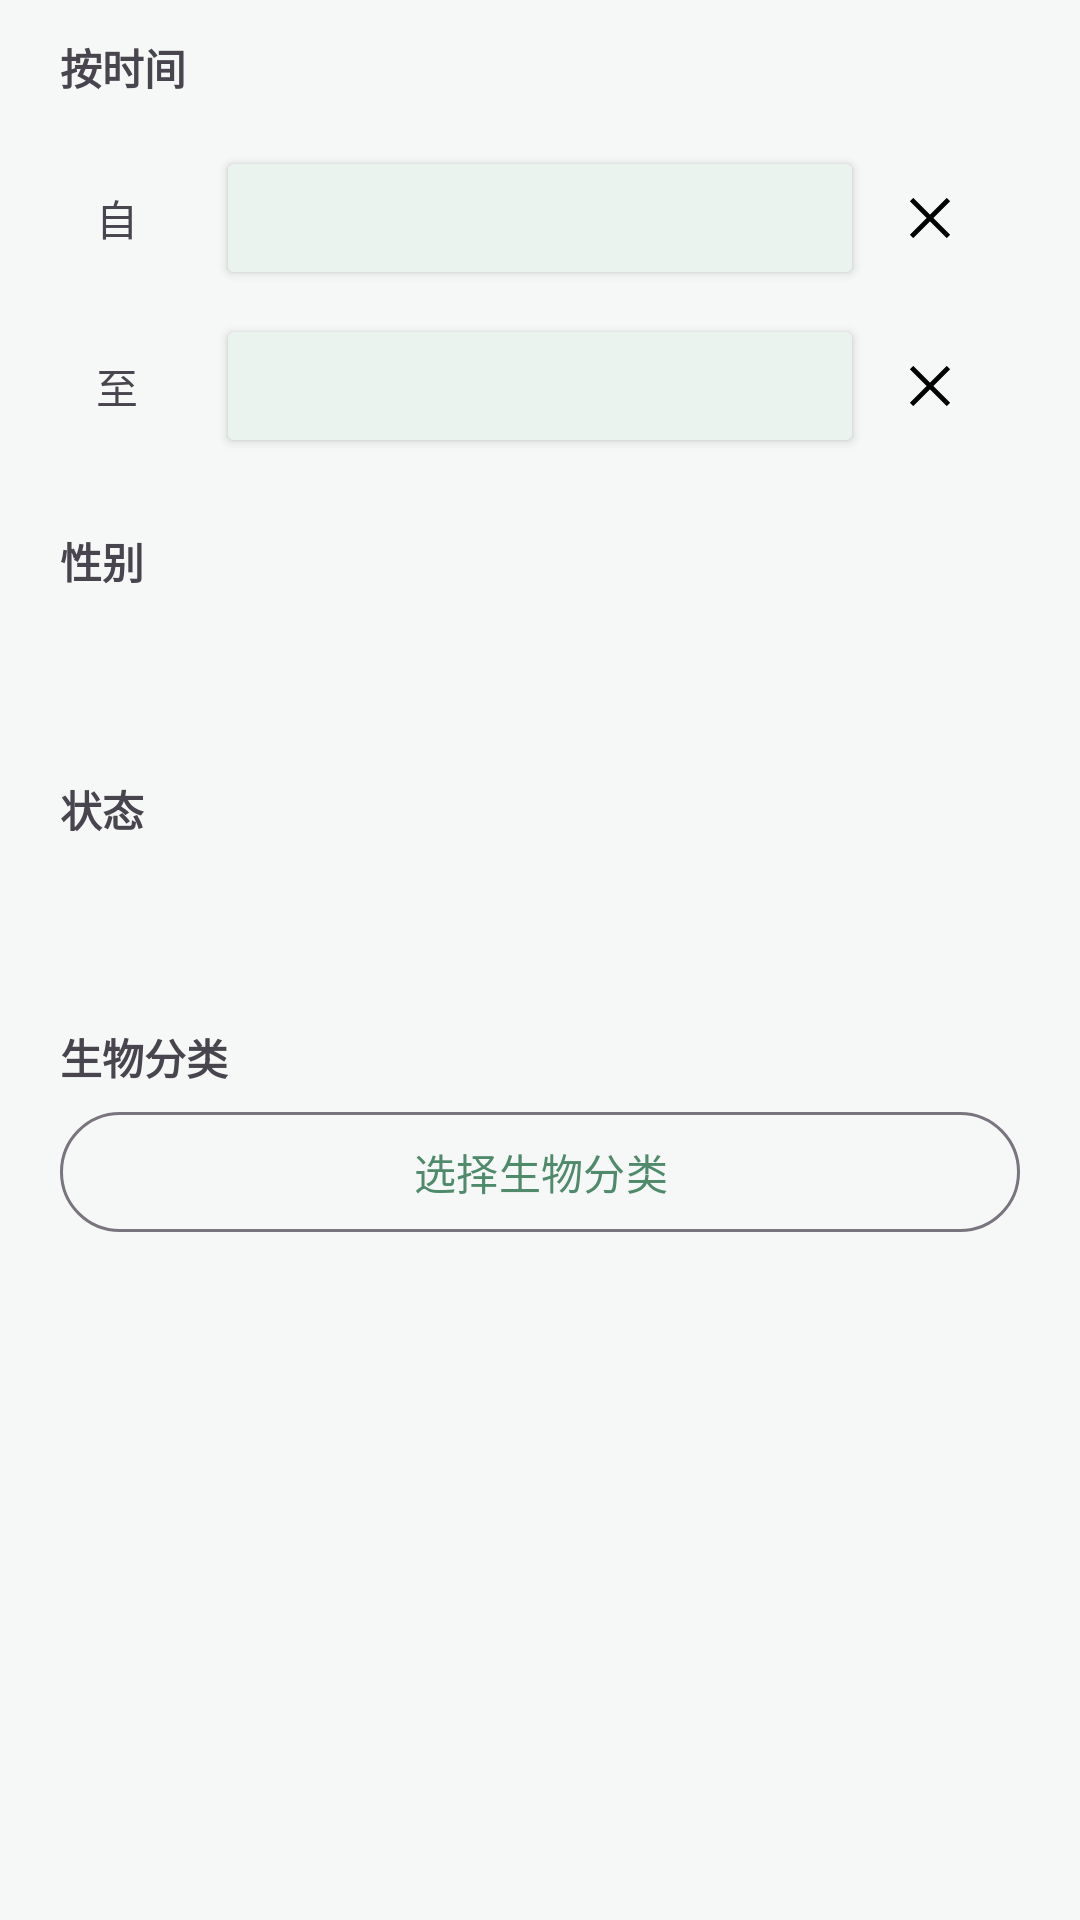

Named icons in this screenshot (1080px x 1920px) and their centers, (x,y):
清除: (930,218), (930,386)
